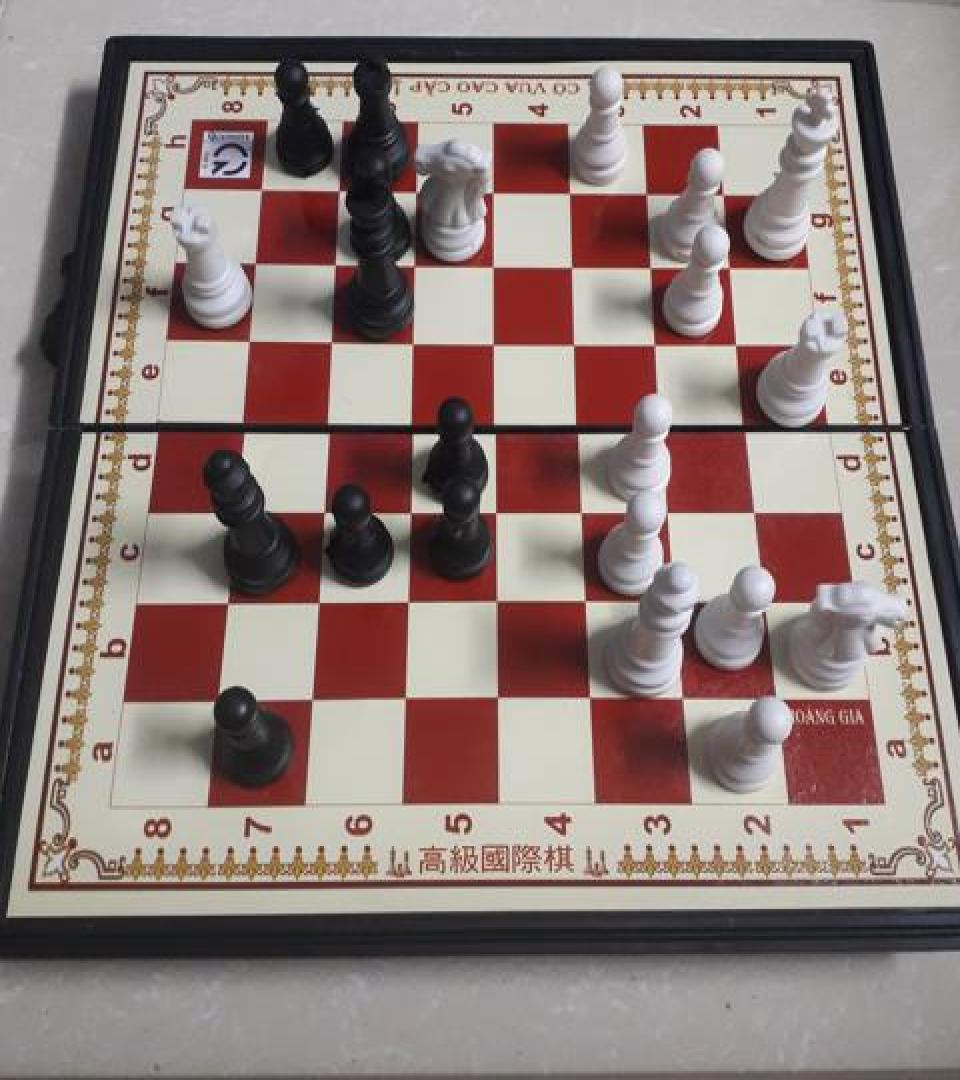xcorner: (214, 581, 246, 618), (305, 581, 337, 618), (395, 581, 427, 618), (485, 581, 517, 618), (575, 581, 607, 618), (665, 581, 697, 618), (754, 581, 786, 618), (206, 680, 238, 716), (300, 680, 332, 716), (393, 680, 425, 716), (486, 680, 518, 716), (579, 680, 611, 716), (672, 680, 704, 716), (764, 680, 796, 716), (222, 490, 254, 526), (310, 490, 342, 526), (397, 490, 429, 526), (484, 490, 516, 526), (571, 490, 603, 526), (658, 490, 690, 526), (745, 490, 777, 526), (229, 403, 261, 439), (314, 403, 346, 439), (399, 403, 431, 439), (483, 403, 515, 439), (568, 403, 600, 439), (652, 404, 684, 440), (736, 404, 768, 440), (236, 320, 268, 356), (318, 320, 350, 356), (400, 322, 432, 358), (482, 322, 514, 358), (564, 322, 596, 358), (646, 323, 678, 359), (727, 323, 759, 359), (242, 244, 274, 280), (322, 244, 354, 280), (402, 245, 434, 281), (482, 245, 514, 281), (561, 245, 593, 281), (640, 246, 672, 282), (719, 246, 751, 282), (248, 171, 280, 207), (326, 172, 358, 208), (403, 172, 435, 208), (481, 173, 513, 209), (558, 173, 590, 209), (635, 173, 667, 209), (712, 174, 744, 210)
